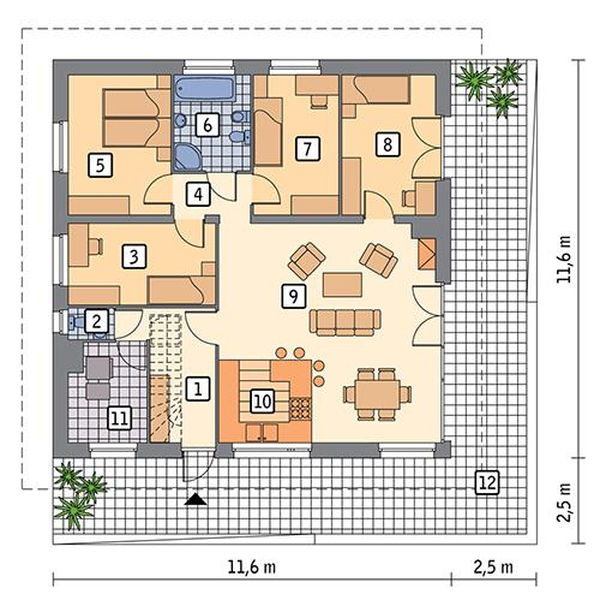door: (404, 276, 446, 349), (407, 118, 445, 181), (107, 339, 149, 381), (183, 443, 218, 491), (181, 310, 225, 346), (359, 188, 403, 224), (248, 172, 289, 208), (142, 174, 177, 211), (203, 173, 239, 204), (172, 218, 211, 246), (112, 311, 139, 340)
room: (211, 209, 453, 458), (53, 303, 227, 459), (51, 61, 177, 224), (336, 54, 454, 224), (48, 208, 226, 314), (250, 60, 347, 224)
wall: (319, 60, 451, 79), (51, 331, 68, 457), (66, 300, 214, 314), (53, 59, 184, 74), (434, 175, 451, 284), (307, 441, 382, 463), (143, 336, 156, 444), (250, 214, 367, 225), (66, 214, 176, 225), (134, 439, 184, 459), (53, 174, 68, 234), (73, 304, 217, 310), (337, 77, 343, 214), (213, 345, 220, 457), (435, 74, 453, 113), (55, 74, 67, 123), (230, 61, 273, 74), (62, 441, 91, 460), (214, 226, 220, 311), (53, 286, 69, 312), (394, 215, 433, 224), (216, 443, 233, 463), (206, 216, 218, 227)
window: (230, 444, 311, 460), (51, 121, 72, 174), (270, 55, 322, 75), (52, 232, 72, 282), (186, 59, 230, 77), (51, 310, 72, 334), (431, 442, 452, 462)
